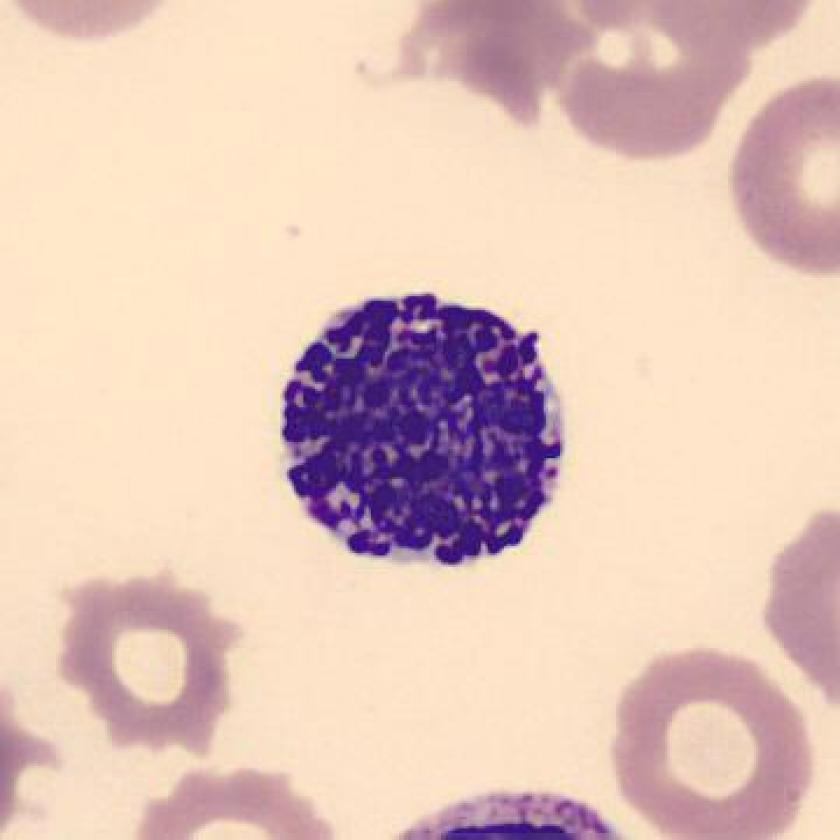basophil: (272, 274, 580, 584)
